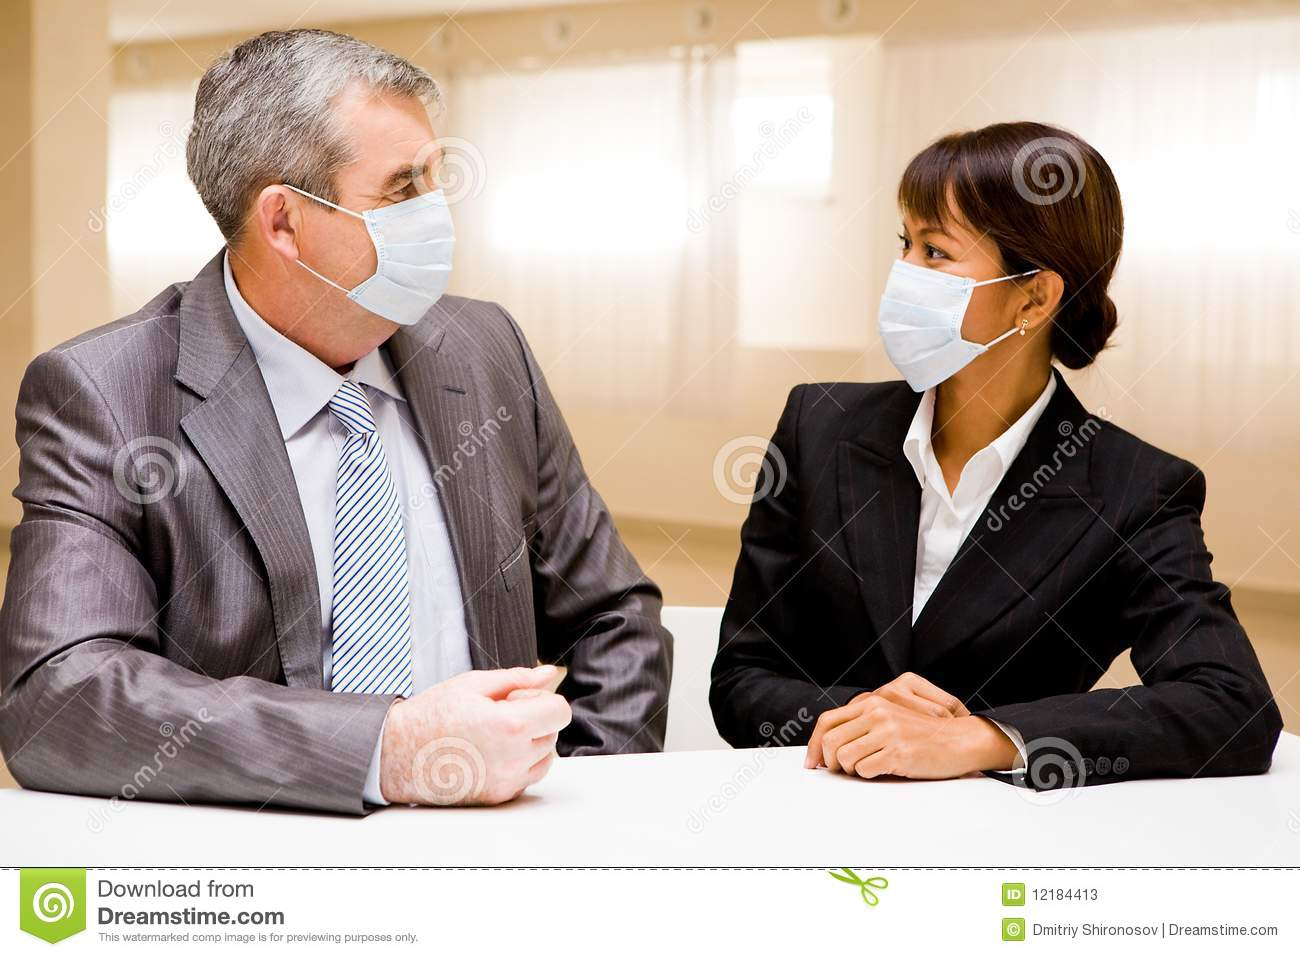mask: (356, 194, 458, 346), (869, 251, 981, 388)
